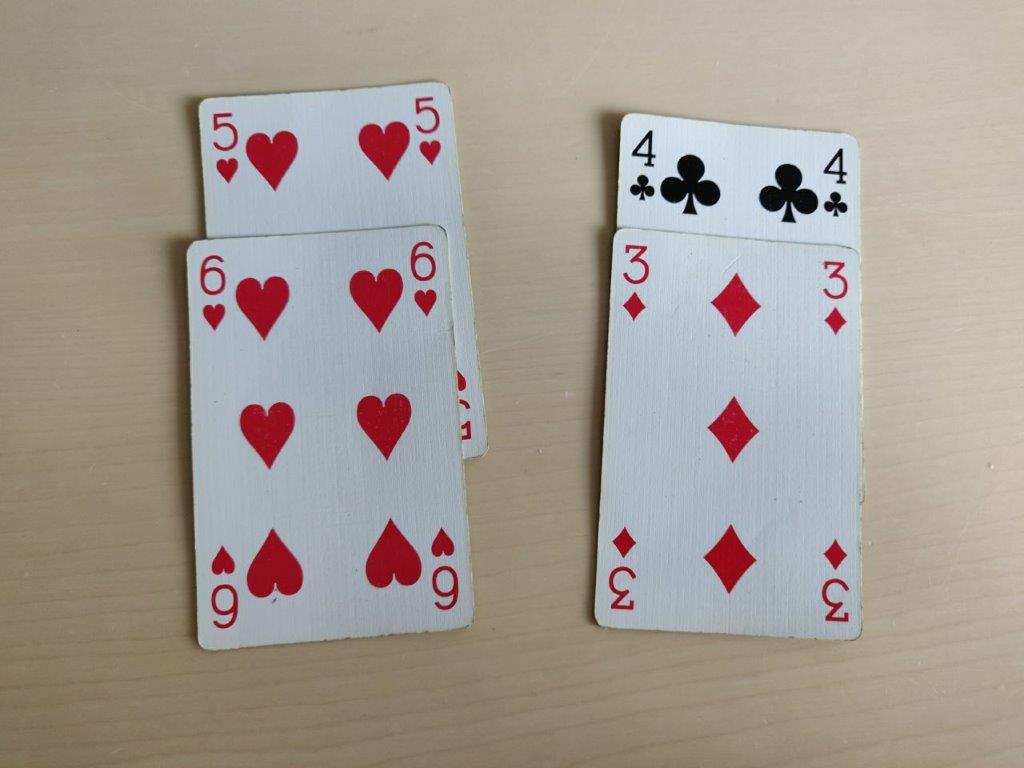3D: (610, 233, 658, 325), (810, 249, 852, 341)
4C: (624, 115, 661, 211), (817, 139, 854, 218)
5H: (198, 91, 244, 186), (410, 84, 447, 174)
6H: (189, 242, 235, 339), (407, 232, 449, 323)
